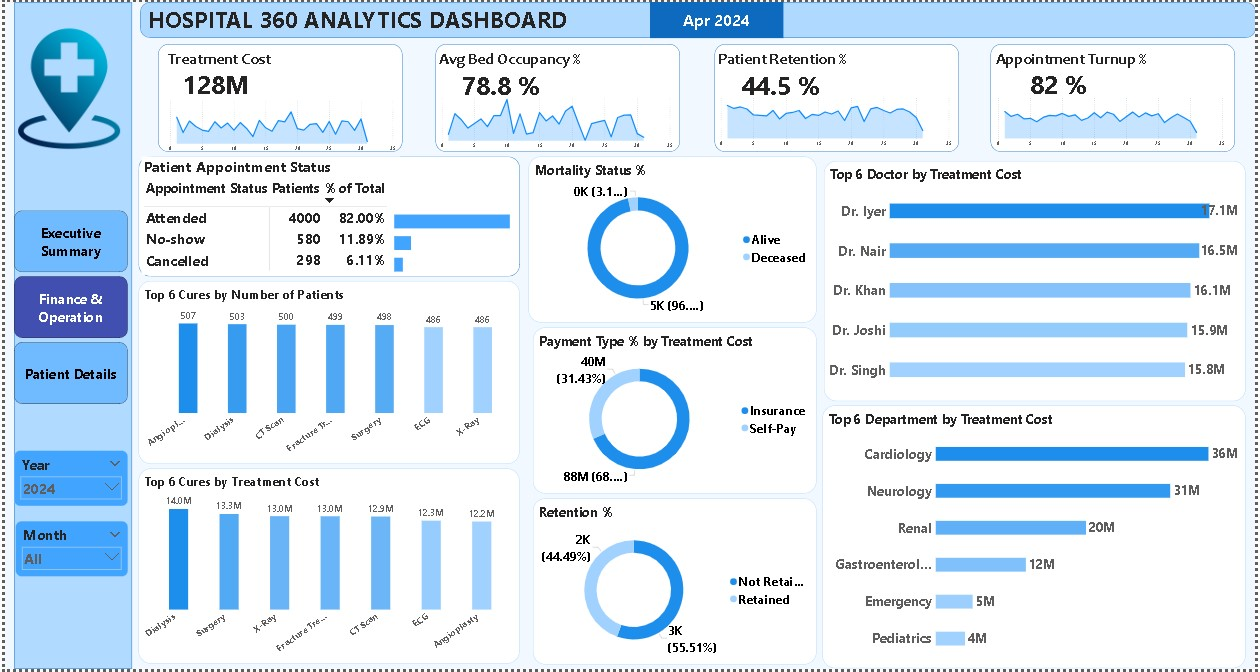

The dashboard page shown, as its layout file describes it:
{"tool":"powerbi","page":{"name":"Finance & Operation","canvas":[3000,1600],"ordinal":1},"visuals":[{"type":"shape","box":[367,100.8,586.5,259.1],"z":0},{"type":"shape","box":[20,0,283.3,1600],"z":1000},{"type":"group","id":"g1","title":"Group 1","box":[381.4,107.9,564.9,259.1],"z":2000},{"type":"shape","box":[1032.7,100.8,586.5,259.1],"z":3000},{"type":"group","id":"g2","title":"Group 1","box":[1032.7,107.9,575.7,251.9],"z":4000},{"type":"shape","box":[1702,100.8,586.5,259.1],"z":5000},{"type":"card","fields":{"Values":["Sum(Hospital ER_Data.Treatment Cost)"]},"box":[383.6,133.8,243.3,123.3],"z":5000,"group":"g1"},{"type":"card","fields":{"Values":["Hospital ER_Data.Appointment Turnup %"]},"box":[2368.2,137.9,313.3,113.3],"z":5000,"group":"g4"},{"type":"card","fields":{"Values":["Hospital ER_Data.Avg Bed Occupancy %"]},"box":[1036,144.6,306.7,103.3],"z":5000,"group":"g2"},{"type":"card","fields":{"Values":["Hospital ER_Data.Retention %"]},"box":[1705.3,147.9,310,96.7],"z":5000,"group":"g3"},{"type":"shape","box":[2364.1,100.8,586.5,259.1],"z":6000},{"type":"group","id":"g3","title":"Group 1","box":[1702,107.9,575.7,248.3],"z":7000},{"type":"textbox","box":[383.6,107.9,430,63.3],"z":8000,"group":"g1"},{"type":"textbox","box":[1036,107.9,366.7,80],"z":8000,"group":"g2"},{"type":"textbox","box":[1705.3,107.9,491.5,64.1],"z":8000,"group":"g3"},{"type":"group","id":"g4","title":"Group 1","box":[2366,107.9,568.5,248.3],"z":8000},{"type":"textbox","box":[2369.3,107.9,483,64.1],"z":8000,"group":"g4"},{"type":"areaChart","fields":{"Category":["Date Table.Date.Variation.Date Hierarchy.Day"],"Y":["Avg(Hospital ER_Data.Bed Occupancy %)"]},"box":[1032.7,216.2,576.7,146.7],"z":9000,"group":"g2"},{"type":"areaChart","fields":{"Category":["Date Table.Date.Variation.Date Hierarchy.Day"],"Y":["Hospital ER_Data.Patient Retention Count"]},"box":[1702,216.9,576.7,141],"z":9000,"group":"g3"},{"type":"areaChart","fields":{"Category":["Date Table.Date.Variation.Date Hierarchy.Day"],"Y":["Hospital ER_Data.Appointment Turnup Count"]},"box":[2366,216.9,566.7,141],"z":9000,"group":"g4"},{"type":"areaChart","fields":{"Category":["Date Table.Date.Variation.Date Hierarchy.Day"],"Y":["Avg(Hospital ER_Data.Treatment Cost)"]},"box":[381.4,222.3,563.3,146.7],"z":9000,"group":"g1"},{"type":"shape","box":[320.2,370.6,915,287.9],"z":9000},{"type":"pivotTable","title":"Patient Appointment Status","fields":{"Values":["Hospital ER_Data.No of Patients","Divide(Hospital ER_Data.No of Patients, ScopedEval(Hospital ER_Data.No of Patients, []))"],"Rows":["Hospital ER_Data.Appointment Status"]},"box":[327.4,370.6,618.9,284.3],"z":11000},{"type":"barChart","fields":{"Y":["Hospital ER_Data.No of Patients"],"Category":["Hospital ER_Data.Appointment Status"]},"box":[928.4,496.6,287.9,158.3],"z":12000},{"type":"columnChart","title":"Top 6 Cures by Number of Patients","fields":{"Y":["Hospital ER_Data.No of Patients"],"Category":["Hospital ER_Data.Cure Name"]},"box":[320.2,669.3,914,439],"z":14000},{"type":"barChart","title":"Top 6 Department by Treatment Cost","fields":{"Category":["Hospital ER_Data.Department"],"Y":["Sum(Hospital ER_Data.Treatment Cost)"]},"box":[1961.1,967.9,1014.7,629.7],"z":15000},{"type":"barChart","title":"Top 6 Doctor by Treatment Cost","fields":{"Category":["Hospital ER_Data.Doctor Name"],"Y":["Sum(Hospital ER_Data.Treatment Cost)"]},"box":[1964.7,381.4,1011.1,575.7],"z":16000},{"type":"donutChart","title":"Payment Type % by Treatment Cost","fields":{"Category":["Hospital ER_Data.Payment Type"],"Y":["Sum(Hospital ER_Data.Treatment Cost)"]},"box":[1266.6,780.8,680.1,398],"z":17000},{"type":"donutChart","title":"Mortality Status %","fields":{"Y":["Hospital ER_Data.No of Patients"],"Category":["Hospital ER_Data.Mortality Status"]},"box":[1255.8,370.6,690.9,398],"z":18000},{"type":"image","box":[3.3,56.7,300,300],"z":19000},{"type":"donutChart","title":"Retention %","fields":{"Y":["Hospital ER_Data.No of Patients"],"Category":["Hospital ER_Data.Patient Retained"]},"box":[1266.6,1191,680.1,398],"z":20000},{"type":"columnChart","title":"Top 6 Cures by Treatment Cost","fields":{"Category":["Hospital ER_Data.Cure Name"],"Y":["Sum(Hospital ER_Data.Treatment Cost)"]},"box":[320.2,1119.1,914,467.8],"z":21000},{"type":"slicer","fields":{"Values":["Date Table.Year"]},"box":[21.6,1075.9,273.5,133.1],"z":22000},{"type":"slicer","fields":{"Values":["Date Table.Month"]},"box":[25.2,1245,269.9,133.1],"z":23000},{"type":"pageNavigator","box":[20,500,273.3,466.7],"z":24000},{"type":"shape","box":[323.8,0,2677.1,86.4],"z":25000},{"type":"textbox","box":[338.2,0,1115.5,93.6],"z":26000},{"type":"card","fields":{"Values":["Min(Date Table.Month-YYYY)"]},"box":[1547.3,0,320.2,86.4],"z":27000}]}

Visuals, with their boxes in screenshot pixels (x1, y1, x2, y2), scaled from the page's 3000x1600 canvas onto the 1260x672 screenshot:
shape: [154, 42, 400, 151]
shape: [8, 0, 127, 671]
"Group 1" group: [160, 45, 397, 154]
shape: [434, 42, 680, 151]
"Group 1" group: [434, 45, 676, 151]
shape: [715, 42, 961, 151]
card - Sum(Hospital ER_Data.Treatment Cost): [161, 56, 263, 108]
card - Hospital ER_Data.Appointment Turnup %: [995, 58, 1126, 106]
card - Hospital ER_Data.Avg Bed Occupancy %: [435, 61, 564, 104]
card - Hospital ER_Data.Retention %: [716, 62, 846, 103]
shape: [993, 42, 1239, 151]
"Group 1" group: [715, 45, 957, 150]
textbox: [161, 45, 342, 72]
textbox: [435, 45, 589, 79]
textbox: [716, 45, 923, 72]
"Group 1" group: [994, 45, 1232, 150]
textbox: [995, 45, 1198, 72]
areaChart - Date Table.Date.Variation.Date Hierarchy.Day x Avg(Hospital ER_Data.Bed Occupancy %): [434, 91, 676, 152]
areaChart - Date Table.Date.Variation.Date Hierarchy.Day x Hospital ER_Data.Patient Retention Count: [715, 91, 957, 150]
areaChart - Date Table.Date.Variation.Date Hierarchy.Day x Hospital ER_Data.Appointment Turnup Count: [994, 91, 1232, 150]
areaChart - Date Table.Date.Variation.Date Hierarchy.Day x Avg(Hospital ER_Data.Treatment Cost): [160, 93, 397, 155]
shape: [134, 156, 519, 277]
"Patient Appointment Status" pivotTable: [138, 156, 397, 275]
barChart - Hospital ER_Data.No of Patients x Hospital ER_Data.Appointment Status: [390, 209, 511, 275]
"Top 6 Cures by Number of Patients" columnChart: [134, 281, 518, 465]
"Top 6 Department by Treatment Cost" barChart: [824, 407, 1250, 671]
"Top 6 Doctor by Treatment Cost" barChart: [825, 160, 1250, 402]
"Payment Type % by Treatment Cost" donutChart: [532, 328, 818, 495]
"Mortality Status %" donutChart: [527, 156, 818, 323]
image: [1, 24, 127, 150]
"Retention %" donutChart: [532, 500, 818, 667]
"Top 6 Cures by Treatment Cost" columnChart: [134, 470, 518, 666]
slicer - Date Table.Year: [9, 452, 124, 508]
slicer - Date Table.Month: [11, 523, 124, 579]
pageNavigator: [8, 210, 123, 406]
shape: [136, 0, 1259, 36]
textbox: [142, 0, 611, 39]
card - Min(Date Table.Month-YYYY): [650, 0, 784, 36]
